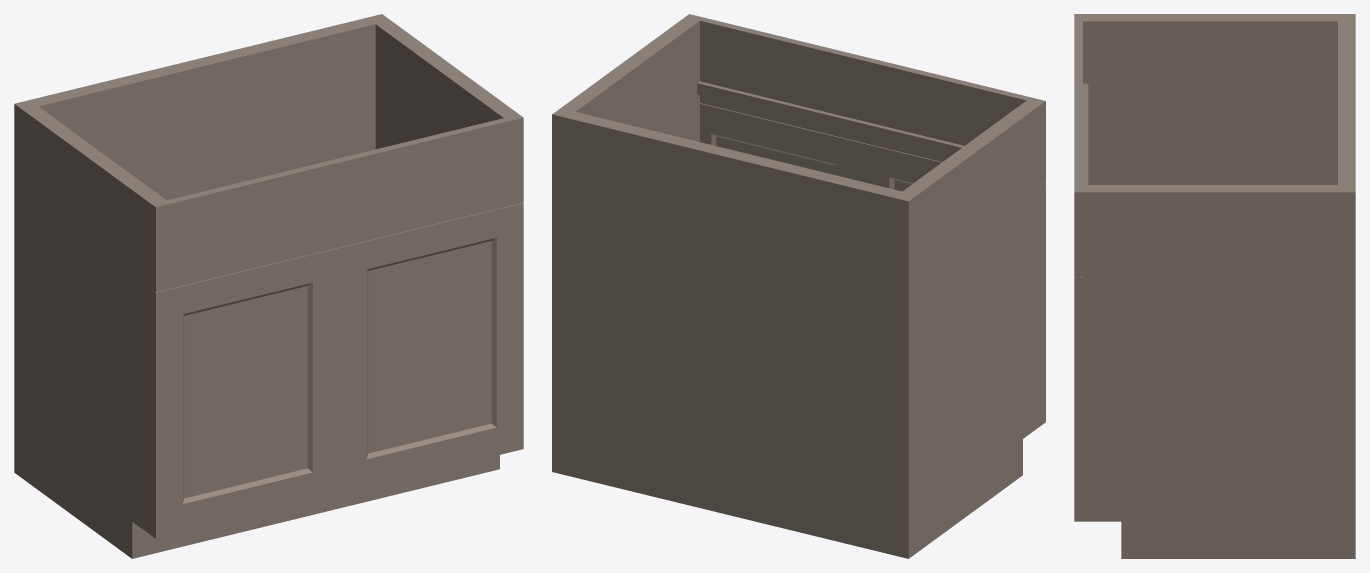
Rendered from Sink-Base-Cabinet-Double-Door-False-Drawer_std_001_W36in.glb.
3 renders of one model, left to right at view 1: azimuth 30°, elevation 25°; view 2: azimuth 150°, elevation 25°; view 3: azimuth 270°, elevation 25°, orthographic. The views are drawn at different scales.
Parts seen in each view (by area): view 1: Sink-Base-Cabinet-Double-Door-False-Drawer.std.001_W36in; view 2: Sink-Base-Cabinet-Double-Door-False-Drawer.std.001_W36in; view 3: Sink-Base-Cabinet-Double-Door-False-Drawer.std.001_W36in.
Boxes of the visible parts, box(x1,y1,x2,y2) form: Sink-Base-Cabinet-Double-Door-False-Drawer.std.001_W36in: box(14, 14, 523, 558); Sink-Base-Cabinet-Double-Door-False-Drawer.std.001_W36in: box(552, 14, 1045, 558); Sink-Base-Cabinet-Double-Door-False-Drawer.std.001_W36in: box(1074, 14, 1355, 558).
Bounding box in the file's own units: 0.9144 × 0.8763 × 0.6096.
